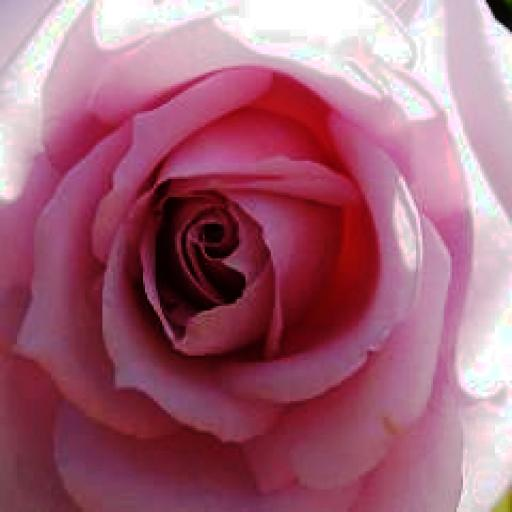rose: (4, 0, 510, 512)
